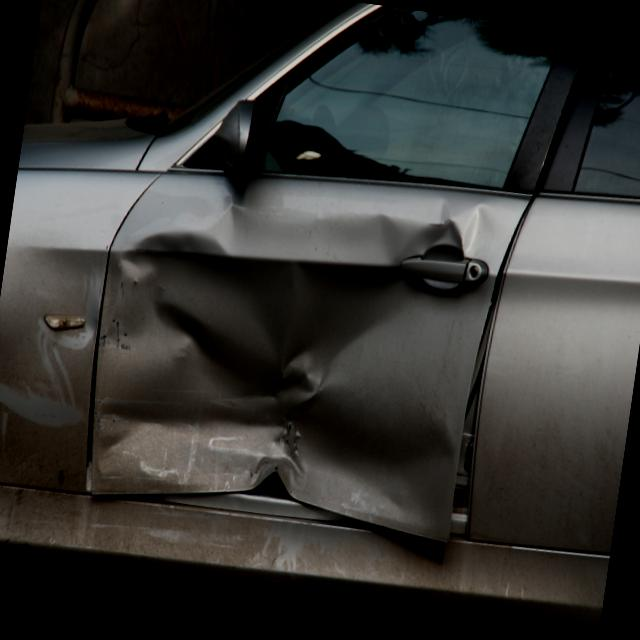Cabossage: (90, 157, 509, 529)
Rayure: (0, 245, 111, 491)
